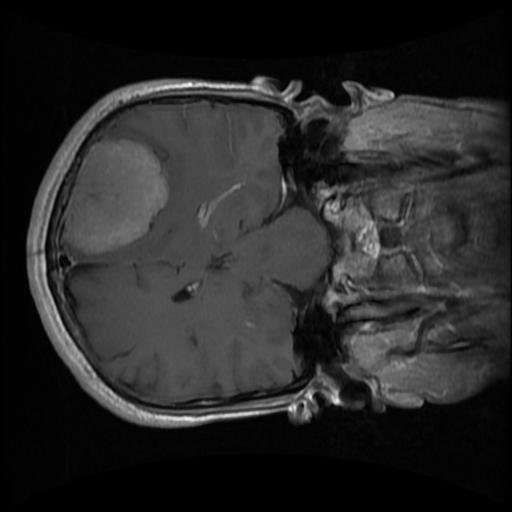meningioma: (63, 138, 168, 256)
